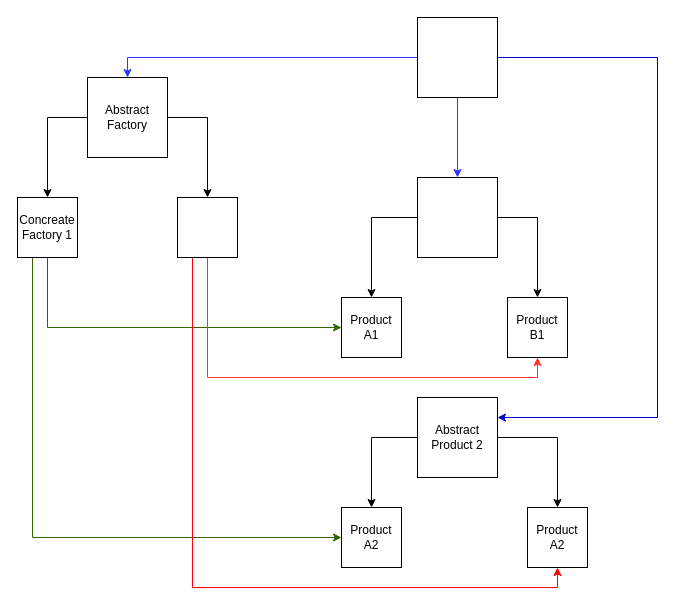
The diagram is 683 pixels wide and 613 high, and some of its shapes have lost their labels. The centre of each missing label's shape, as x and y in pixels:
"Abstract Product 1" goes at [457,217].
"Client" goes at [457,57].
"Concreate Factory 2" goes at [207,227].
